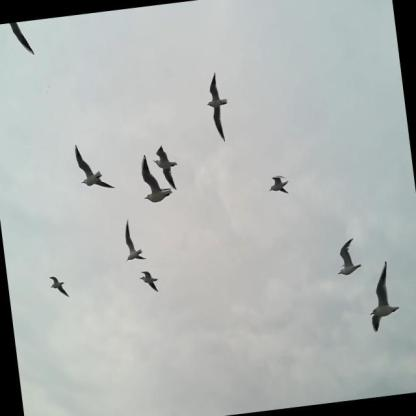bird: (363, 259, 403, 337), (74, 137, 116, 194), (202, 69, 233, 145), (138, 144, 173, 207), (150, 141, 184, 196), (333, 234, 364, 280), (121, 216, 147, 264), (267, 168, 293, 199), (137, 266, 162, 295), (47, 270, 70, 301)
